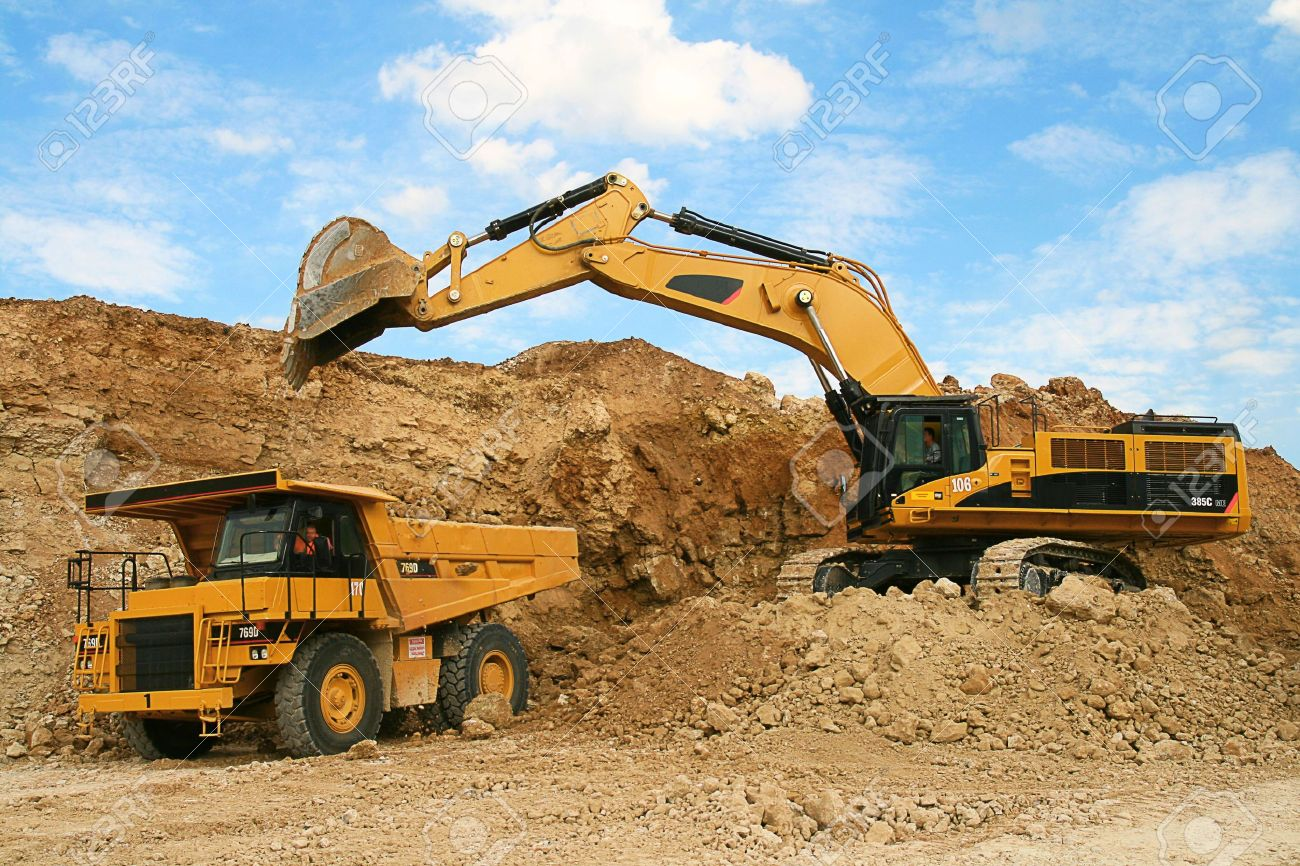backhoe: (271, 177, 1252, 606)
truck: (67, 472, 586, 753)
